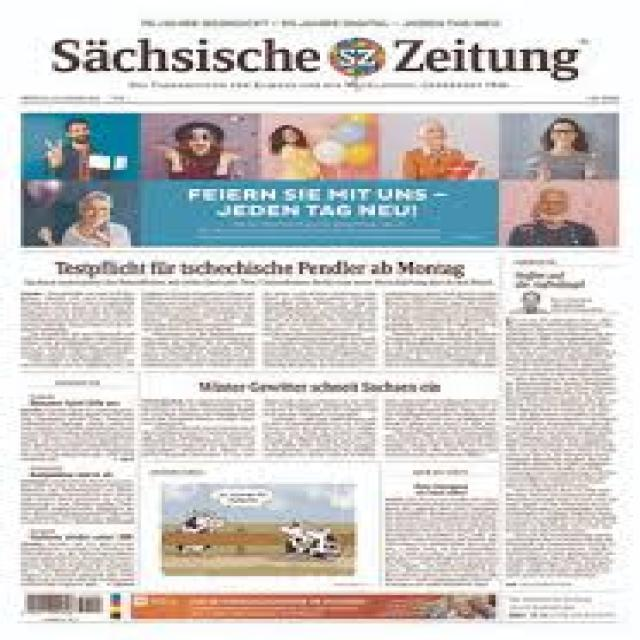paper: (0, 0, 632, 622)
